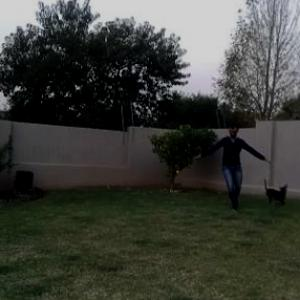land: (180, 115, 262, 211)
